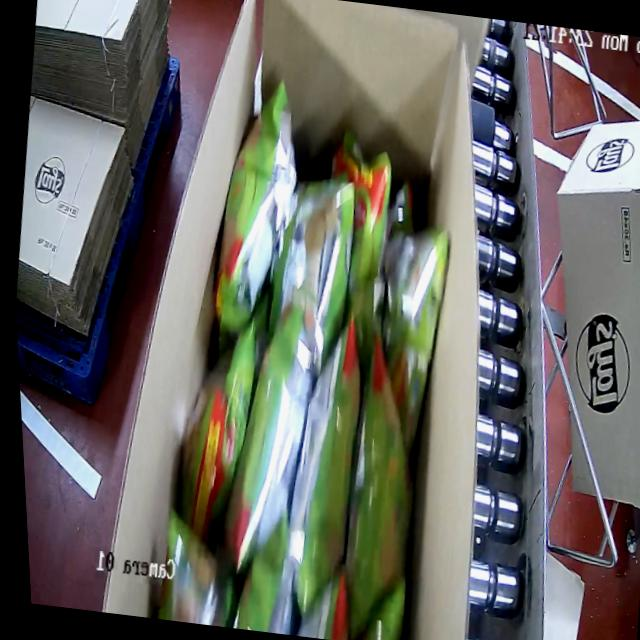YOGURT_HERB: (117, 73, 488, 640)
